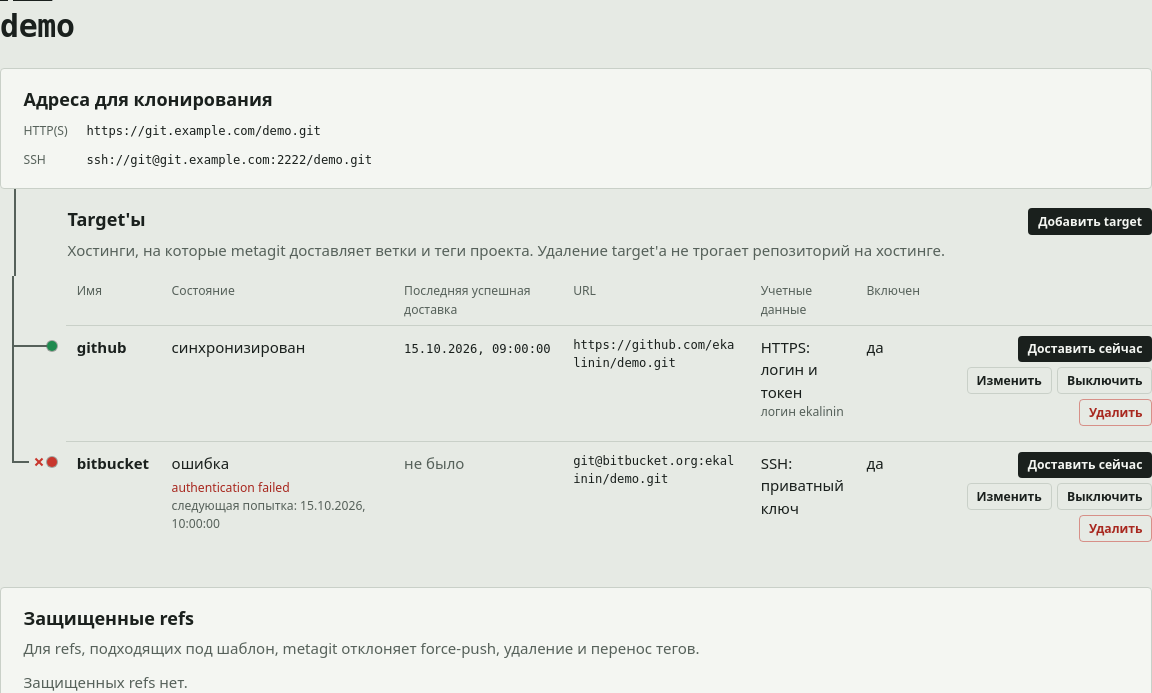
Test case: "Доставить сейчас" starts a delivery
Click the button "Доставить сейчас" in the row of "синхронизирован". click: point(1085, 349)
box: [1018,336,1151,362]
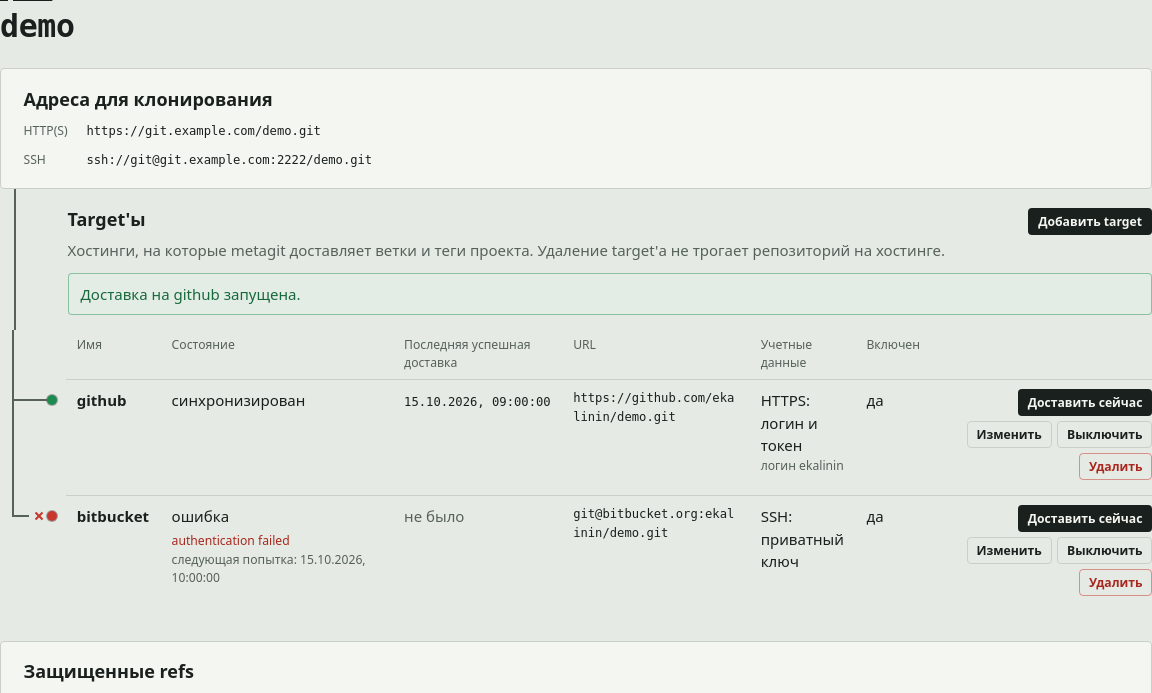
Result: the text "Доставка на github запущена." is shown at [68,273,1151,315]
